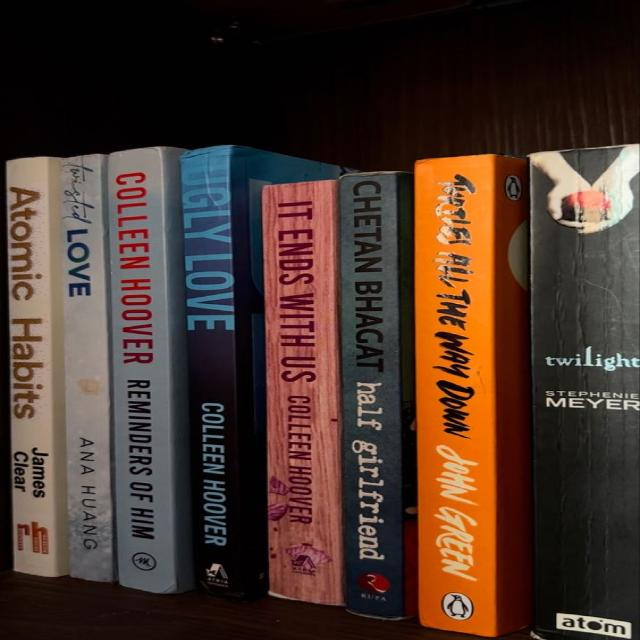book: (511, 144, 639, 639), (415, 155, 530, 636), (108, 147, 192, 593), (182, 152, 265, 591), (264, 180, 343, 605), (340, 172, 411, 618), (7, 157, 68, 576), (62, 155, 111, 581)
